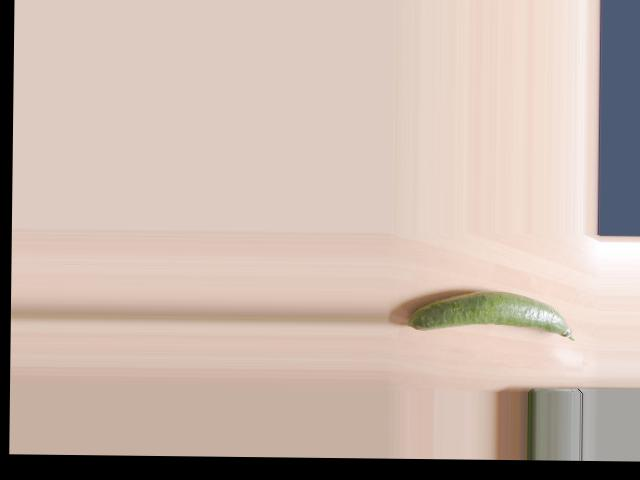cucumber: (406, 289, 576, 340)
